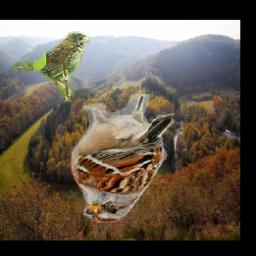Sparrow: (69, 94, 175, 223), (13, 32, 90, 103)
